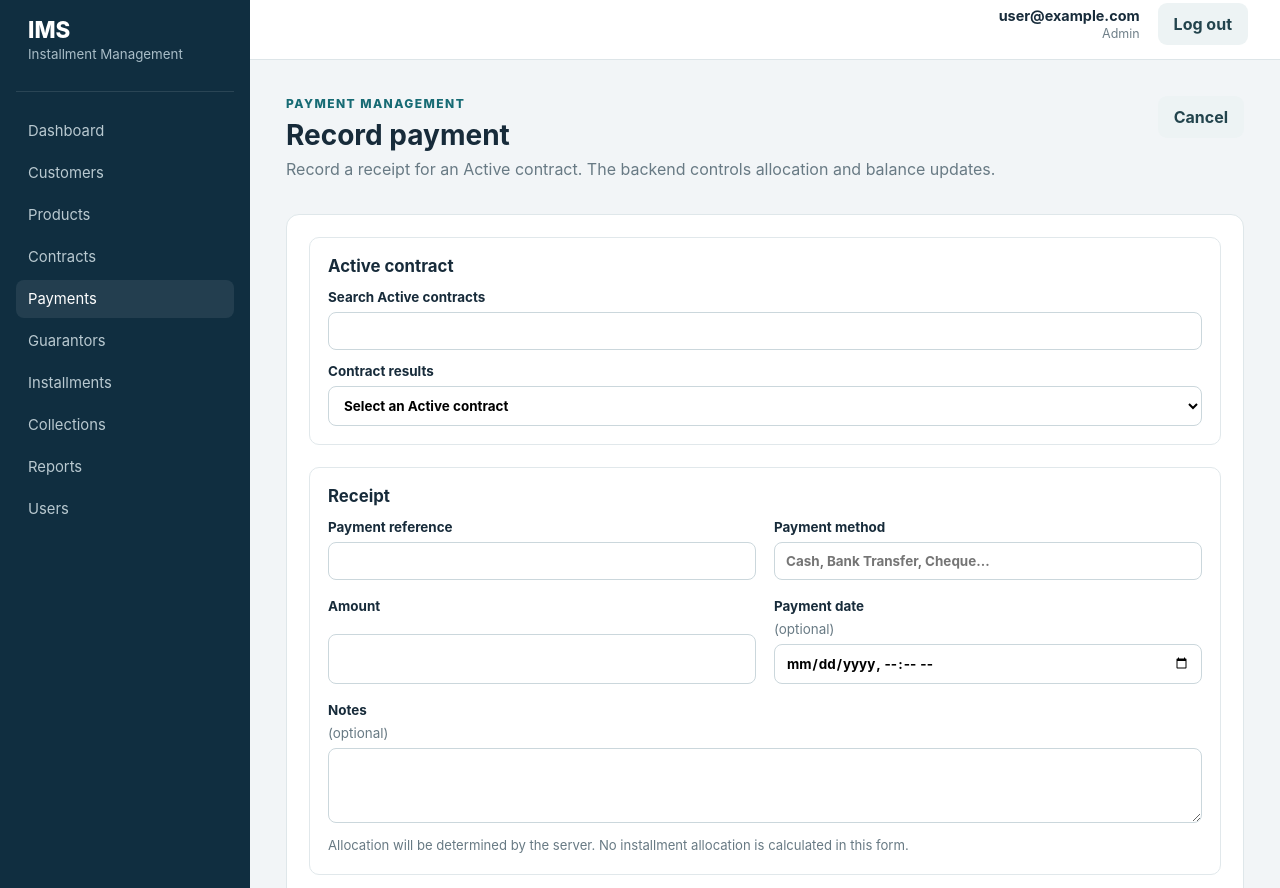
Test: Payments module › uses null optional fields and displays authoritative allocation after success
Select "CNT-044 — Layla Hassan — remaining 216.00" in the dropdown labelled "Contract results". click: (765, 406)
box: [328,386,1202,426]
(page scrolled)
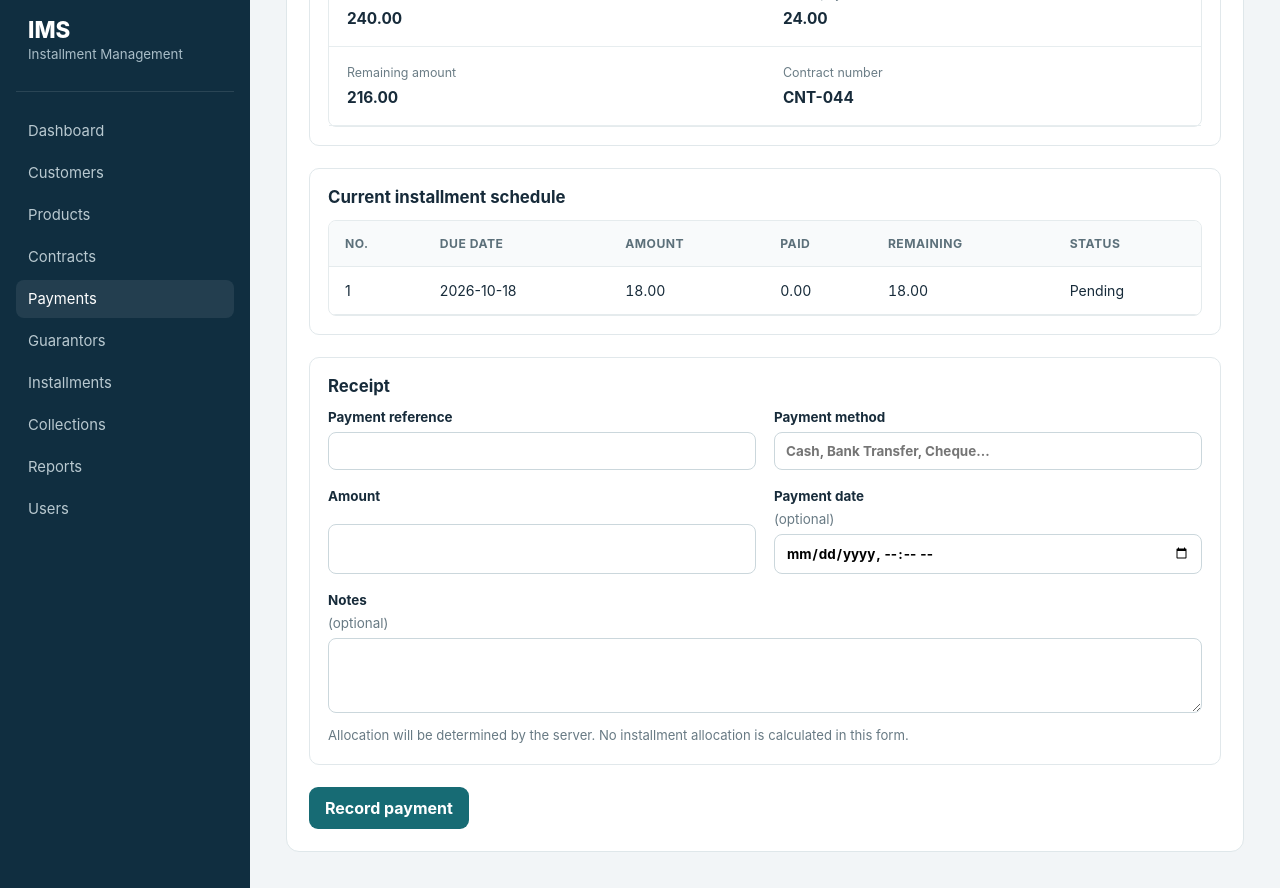
Expected: the heading "Current installment schedule" is shown, [328,187,565,207]
Type "PAY-NEW" into the field labelled "Payment reference". click: (542, 451)
box: [328,432,756,470]
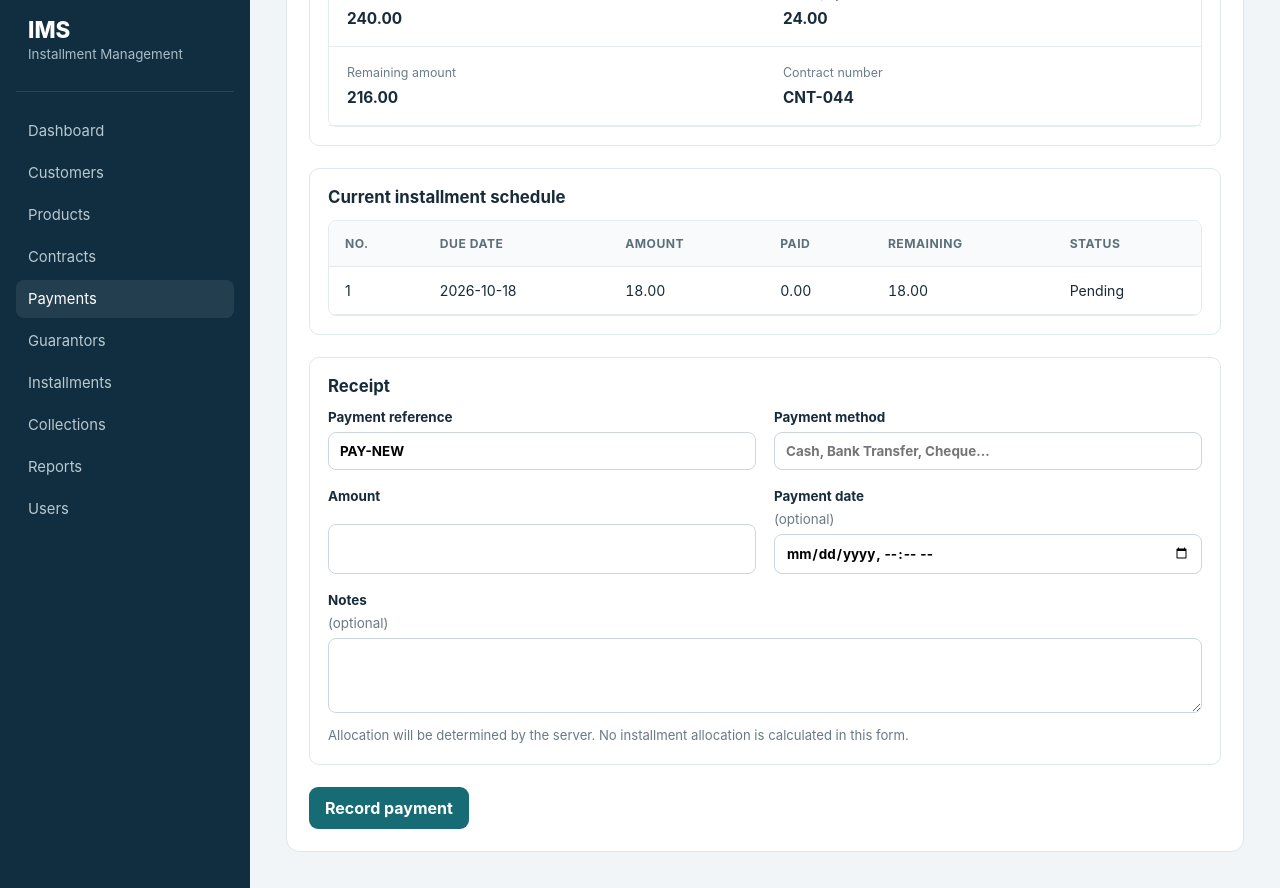
Type "Cash" into the field labelled "Payment method". click: (988, 451)
box: [774,432,1202,470]
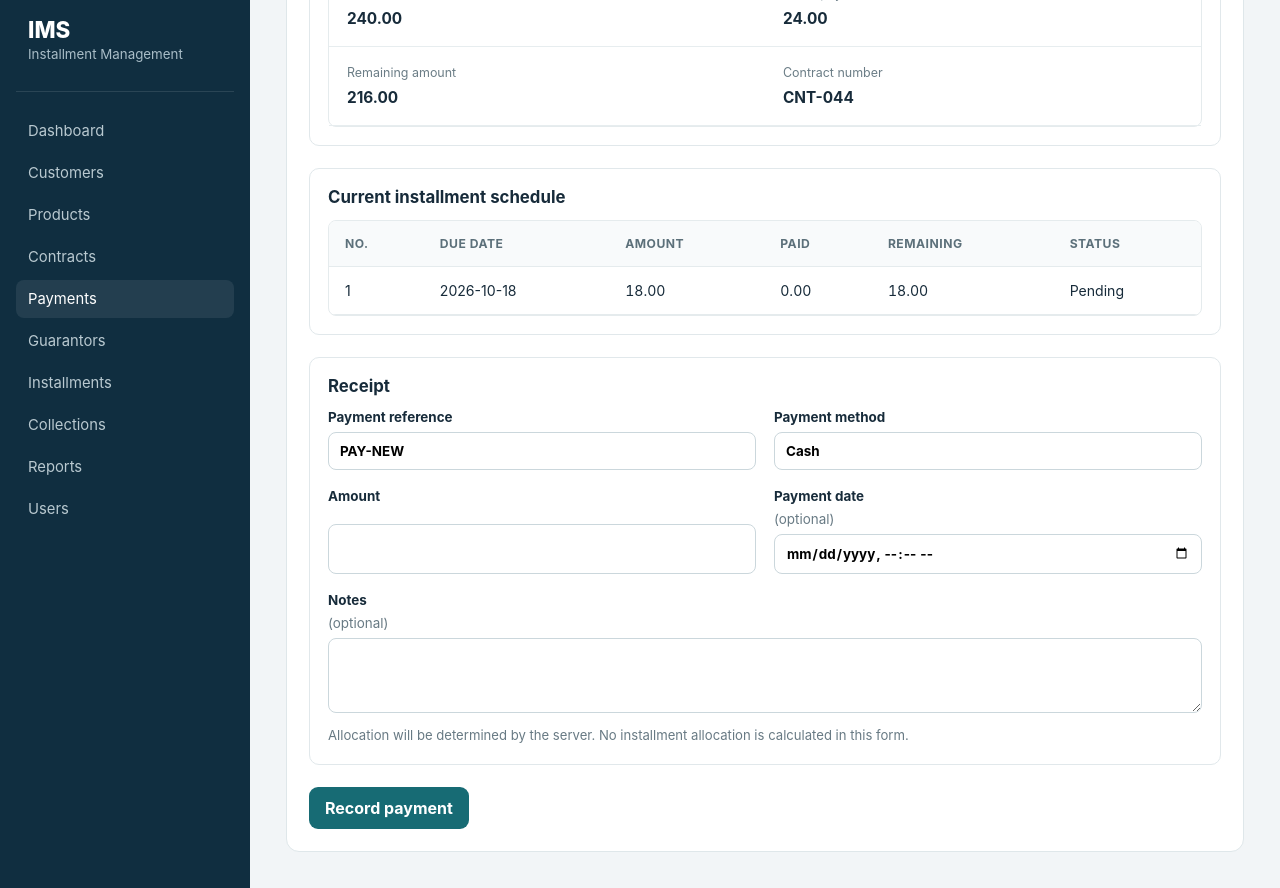
Type "25.50" into the field labelled "Amount". click: (542, 549)
box: [328,524,756,574]
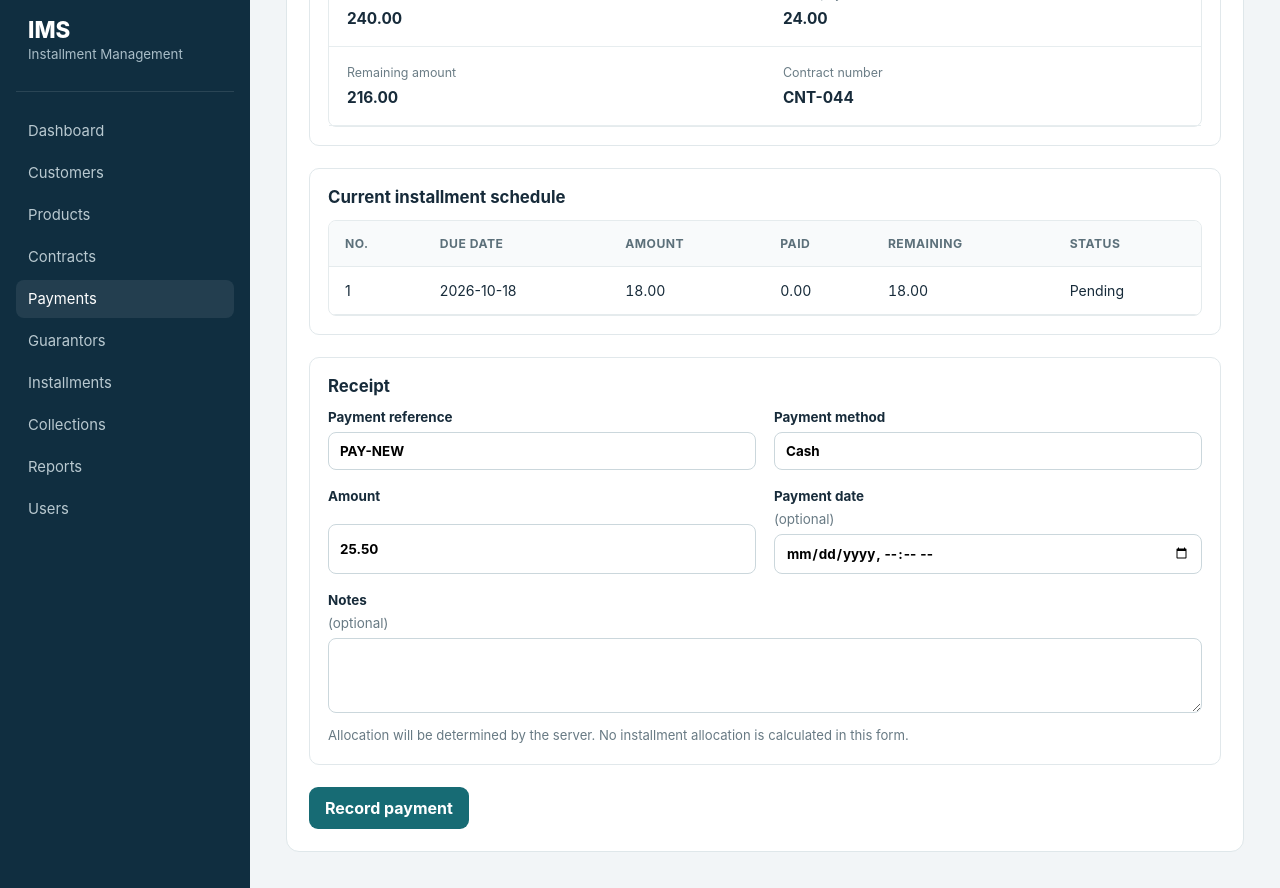
Click the button "Record payment". click: (389, 808)
box: [309,787,469,829]
(page scrolled)
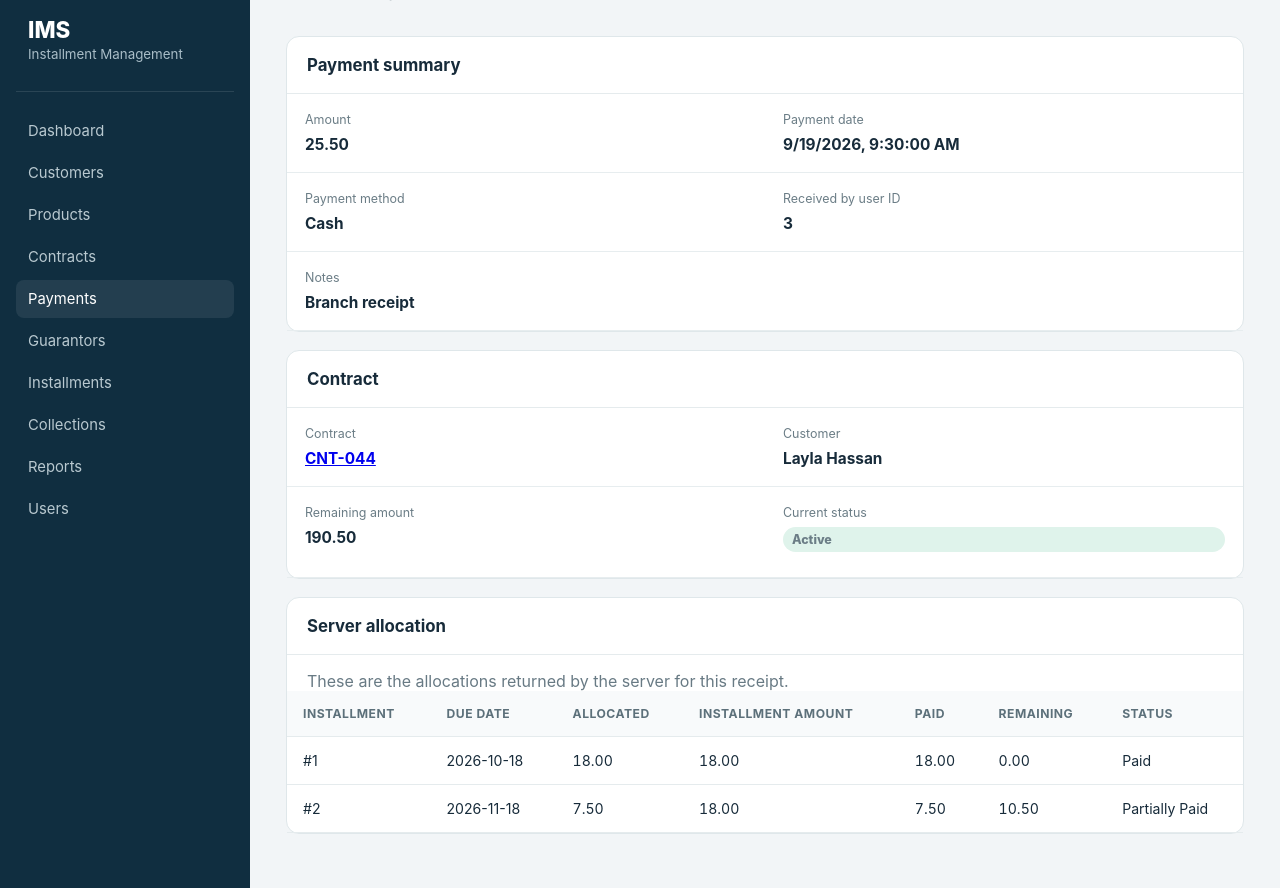
Expected: the 1st text "7.50" is shown, [557,784,683,832]
